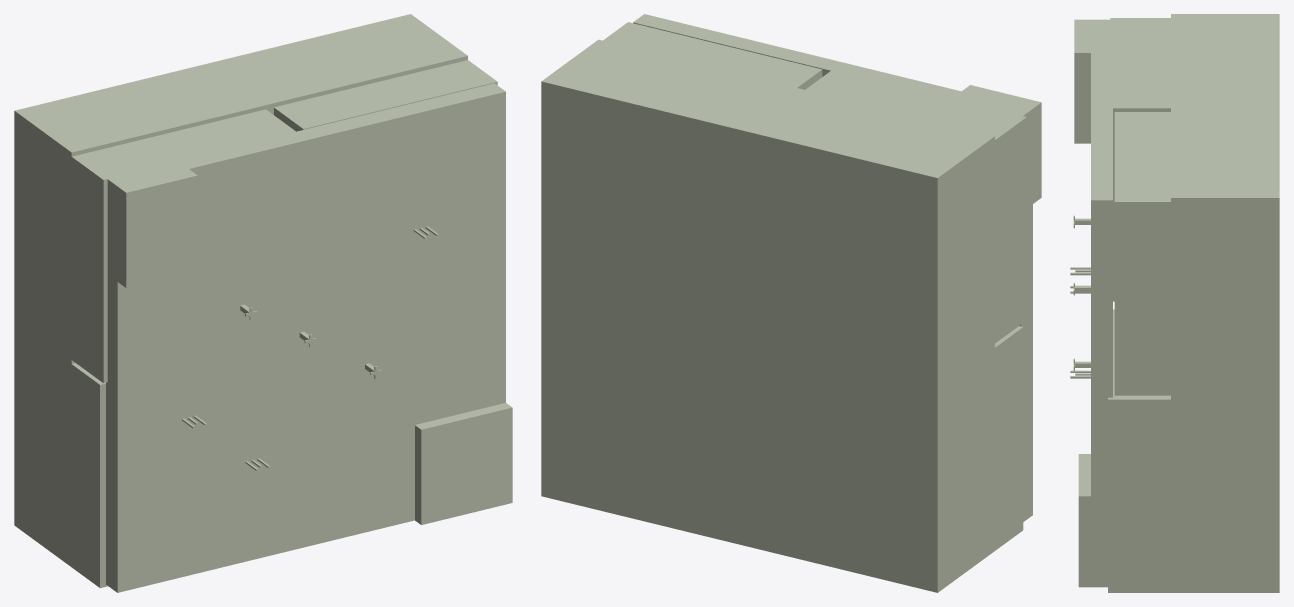
Rendered from Stone tile02.fbx.
3 views of the same model, side by side, from view 1: azimuth 30°, elevation 25°; view 2: azimuth 150°, elevation 25°; view 3: azimuth 270°, elevation 25° (orthographic). The views are drawn at different scales.
Parts seen in each view (by area): view 1: group1, StoneTile_Grass:Mesh; view 2: StoneTile_Grass:Mesh, group1; view 3: StoneTile_Grass:Mesh, group1.
Boxes of the visible parts, x1=… form: group1: x1=71, y1=60, x2=512, y2=592; StoneTile_Grass:Mesh: x1=14, y1=14, x2=467, y2=566; StoneTile_Grass:Mesh: x1=541, y1=39, x2=994, y2=592; group1: x1=603, y1=14, x2=1041, y2=550; StoneTile_Grass:Mesh: x1=1171, y1=14, x2=1279, y2=592; group1: x1=1070, y1=18, x2=1171, y2=592.
Size of the model in its own units: 2 by 2 by 0.9624.
